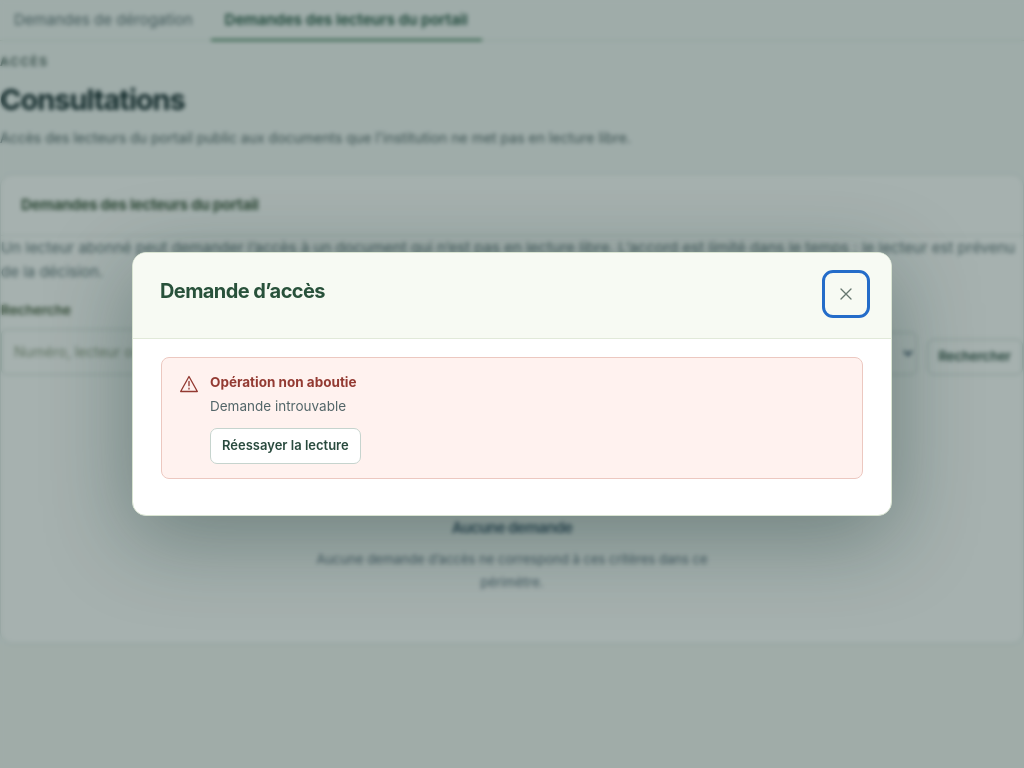
it: une notification ouvre la demande exacte même absente de la liste et conserve une erreur explicite si refusée
The image size is (1024, 768).
Check: the text "Demande introuvable" is shown, box [210,394,361,418]
Click the button named "Fermer" at (846, 294), box [828,276,864,312]
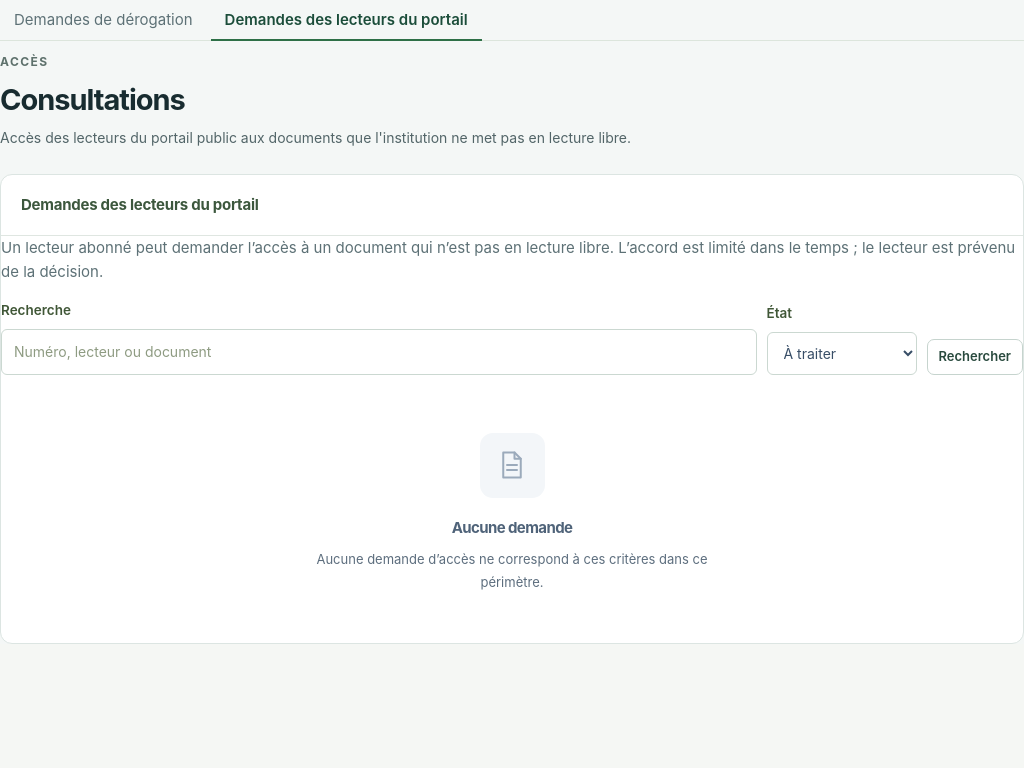
Check: the dialog is gone
